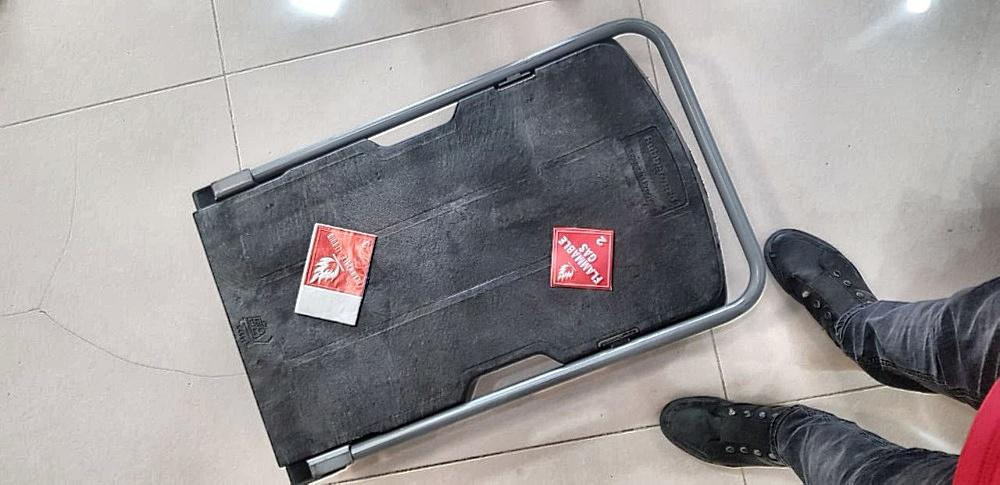flammable: (306, 224, 375, 296), (552, 229, 615, 287)
